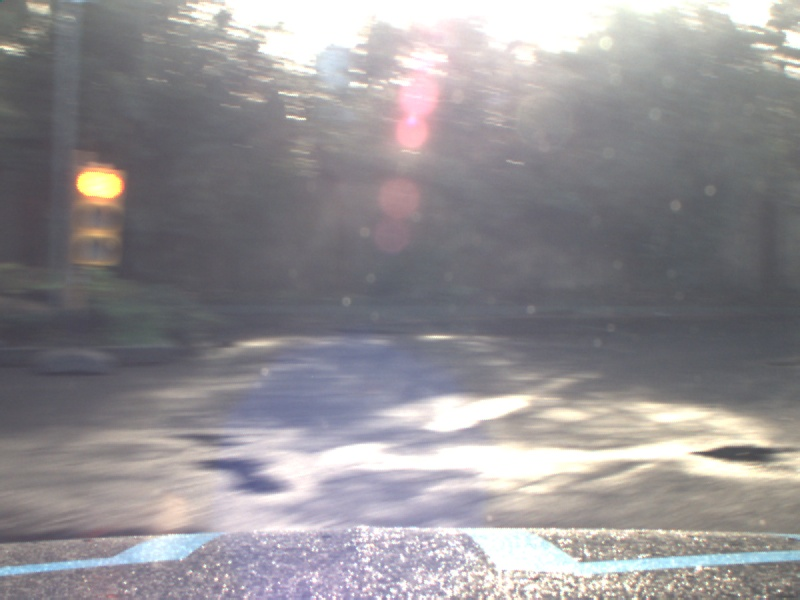Red: (71, 165, 122, 266)
